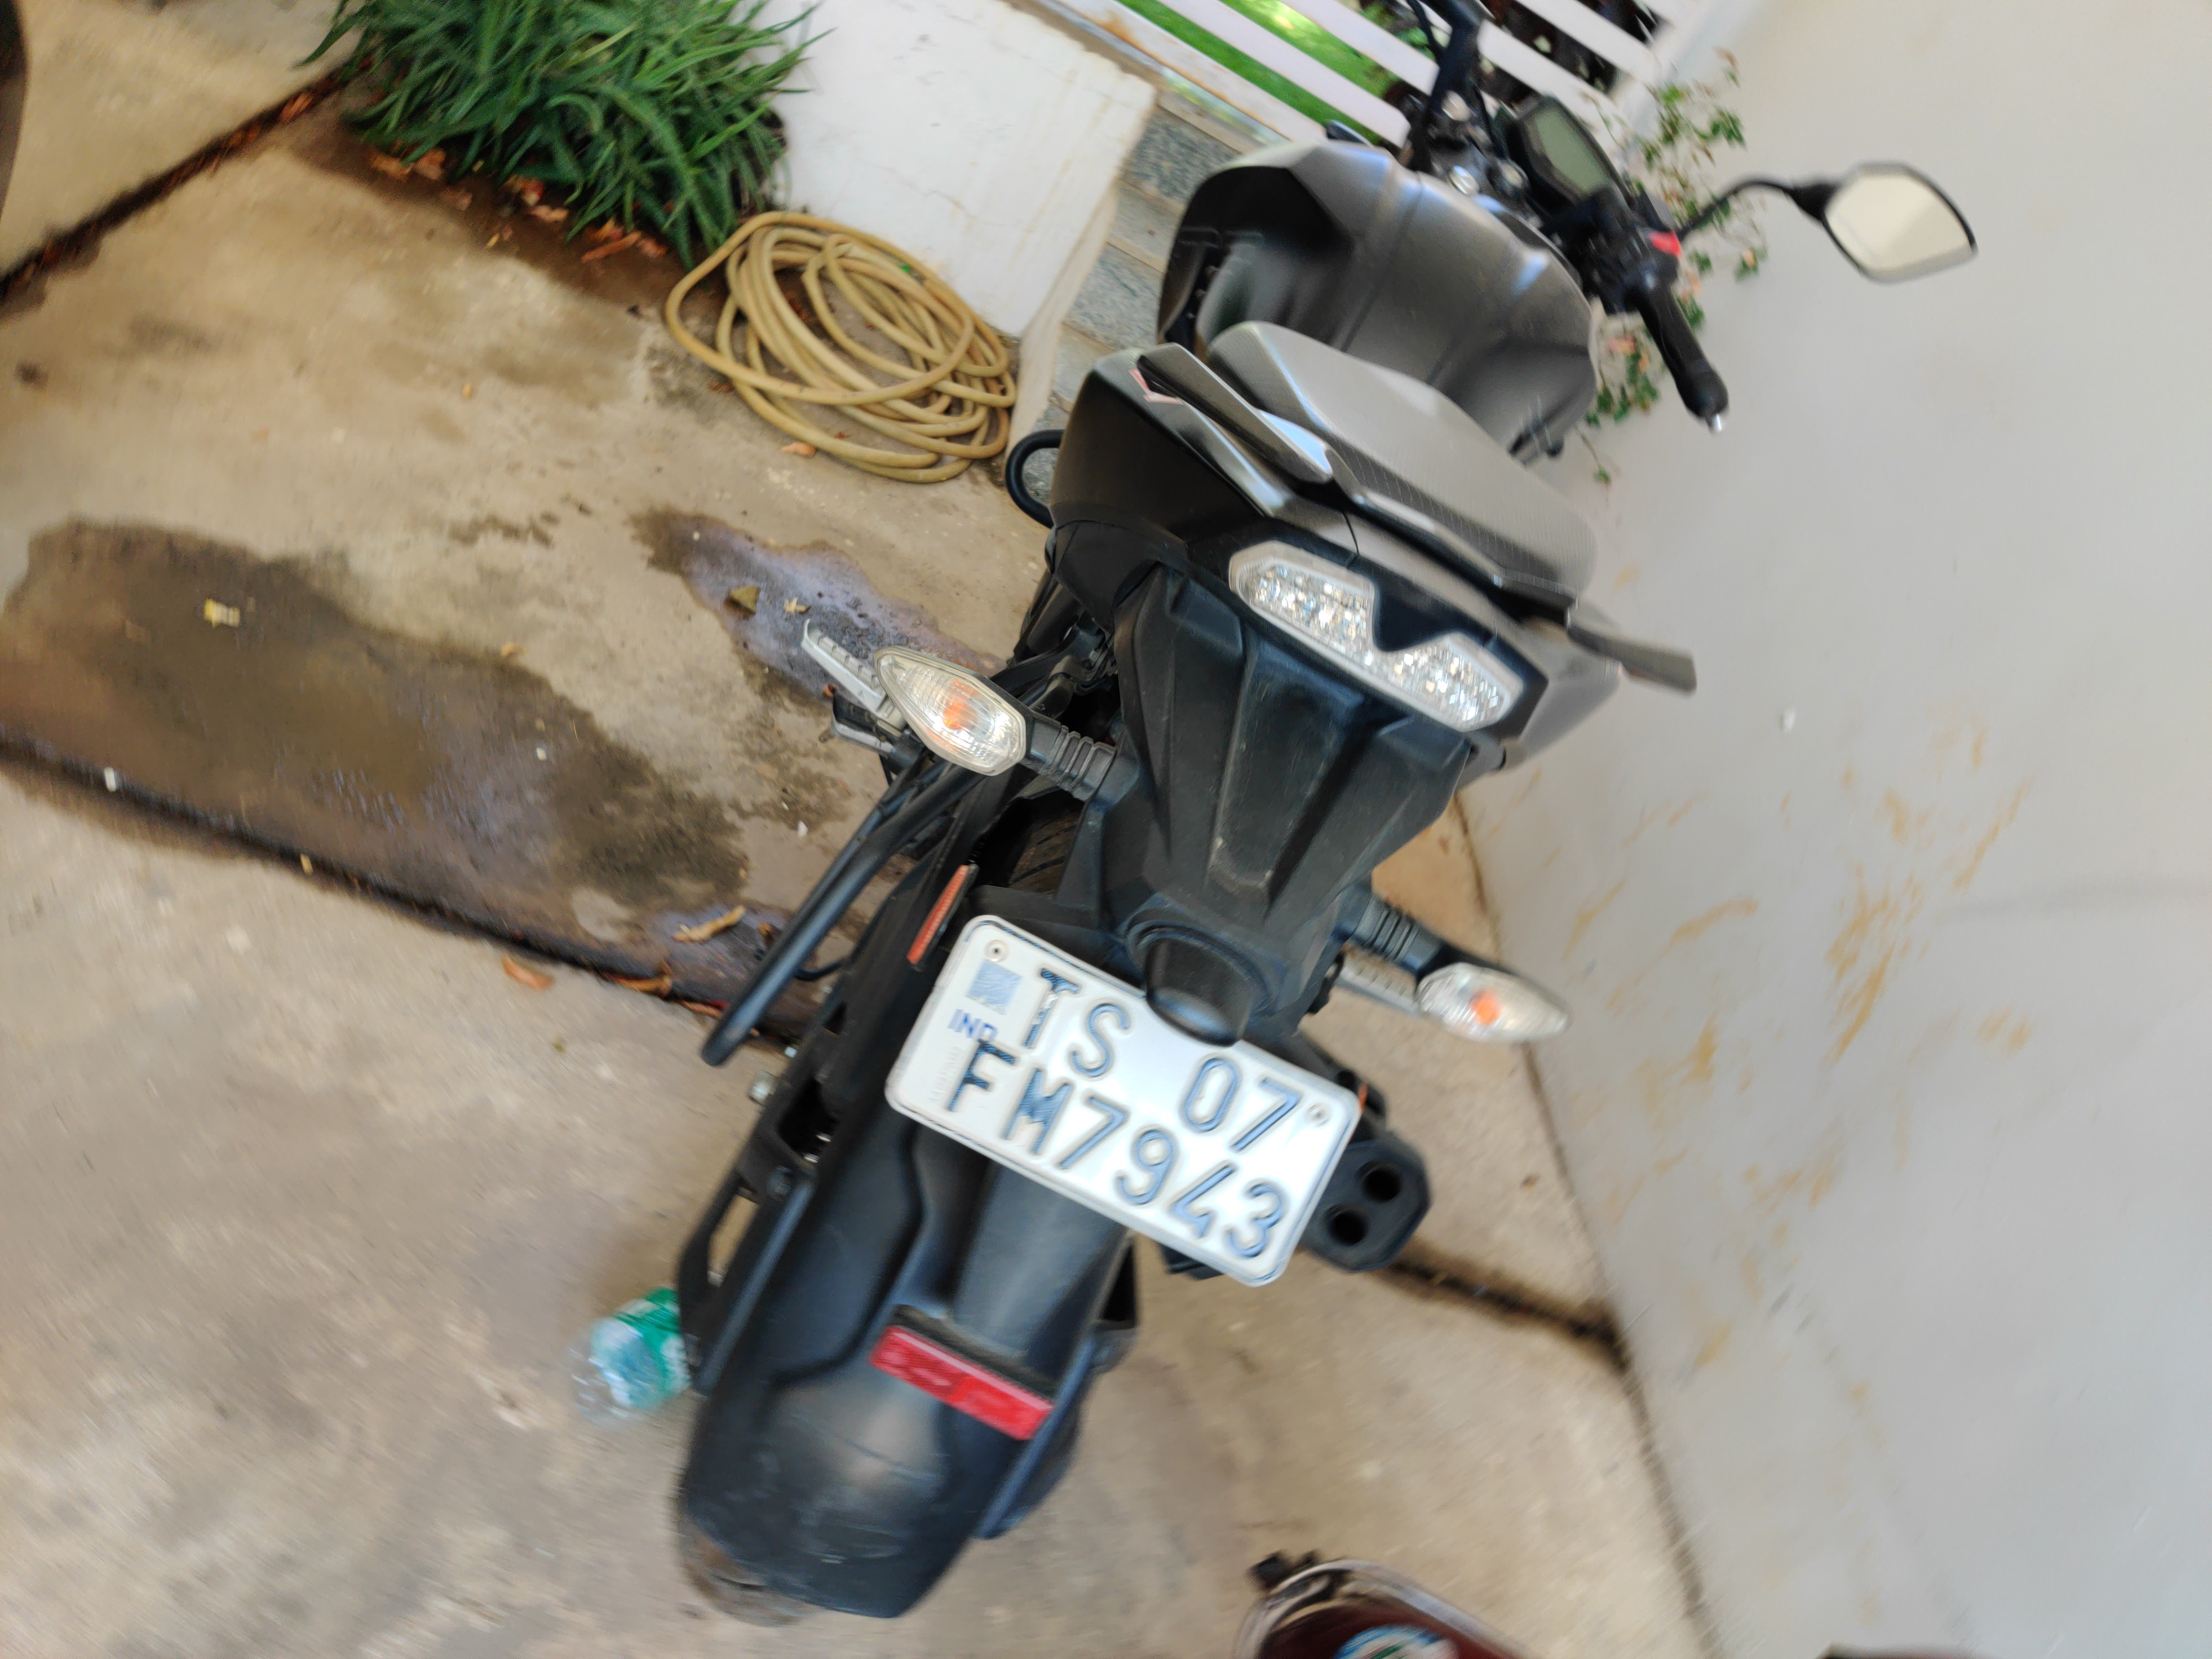plate: (830, 905, 1410, 1292)
